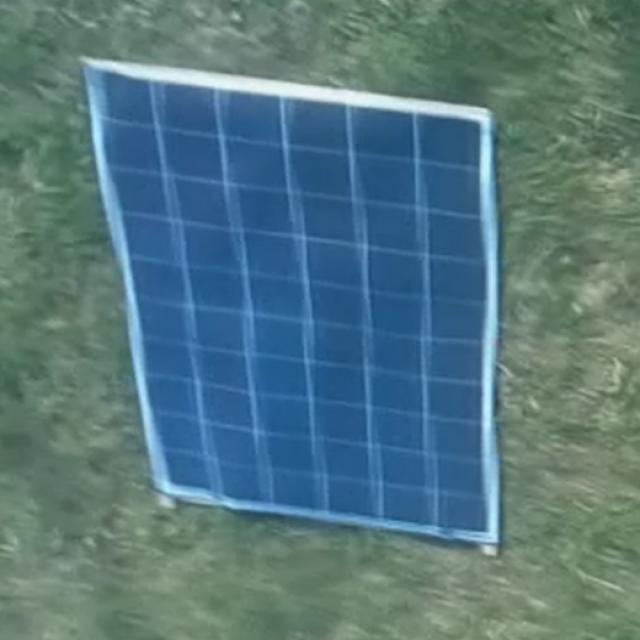no faulty: (93, 72, 508, 540)
